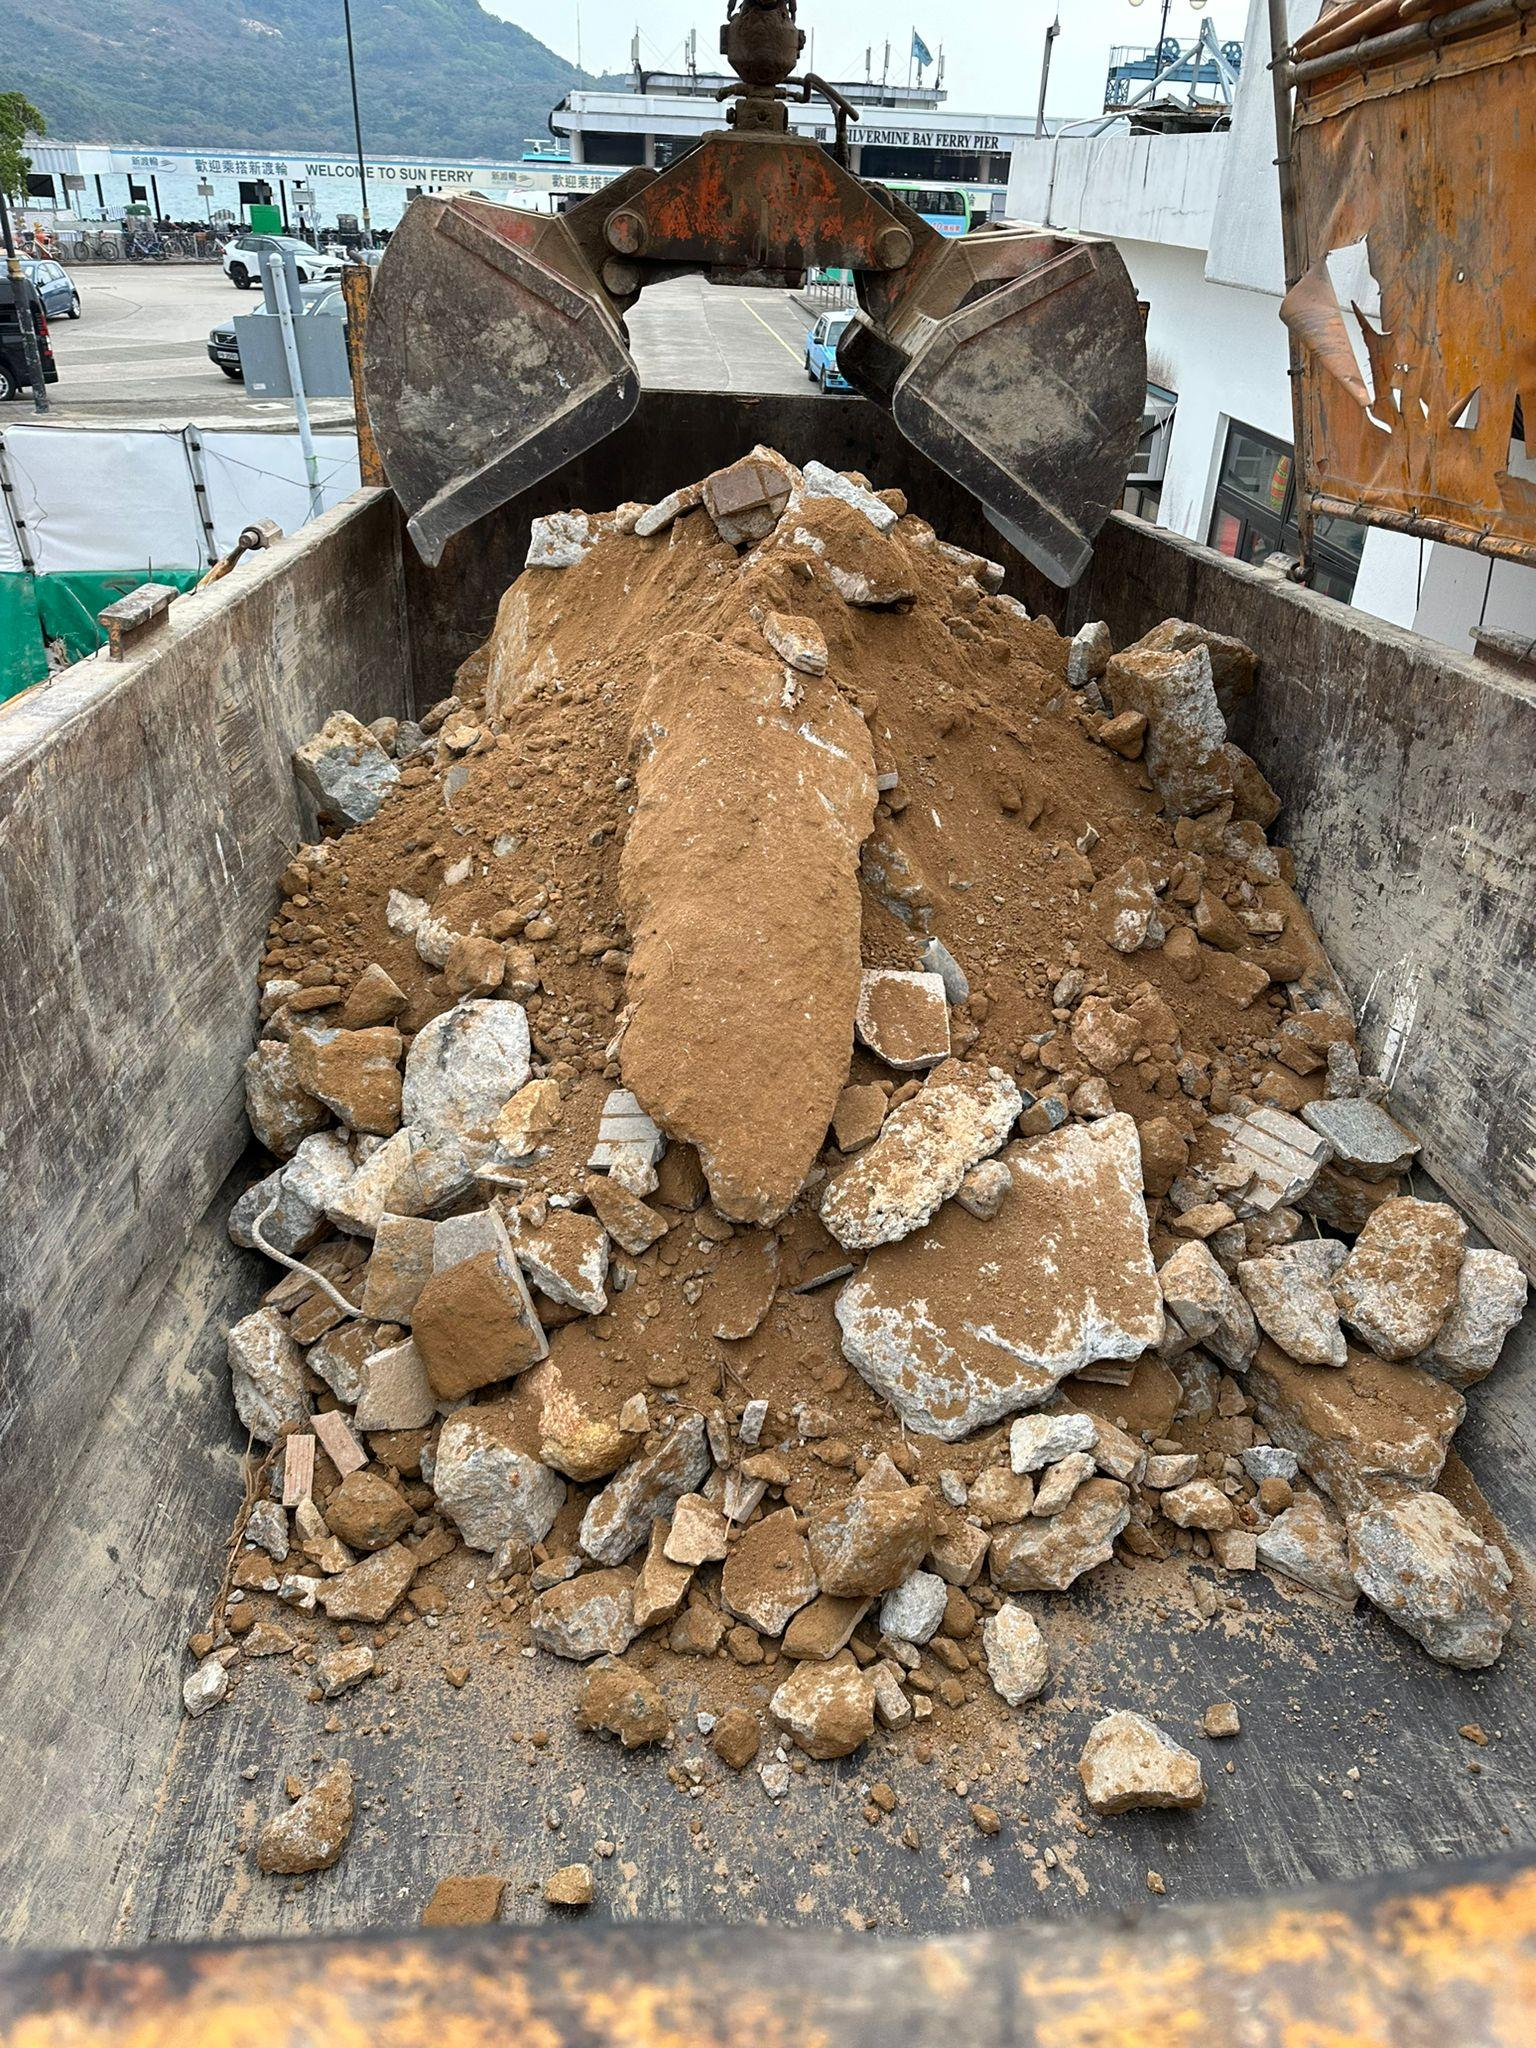dry: (276, 456, 1501, 1609)
